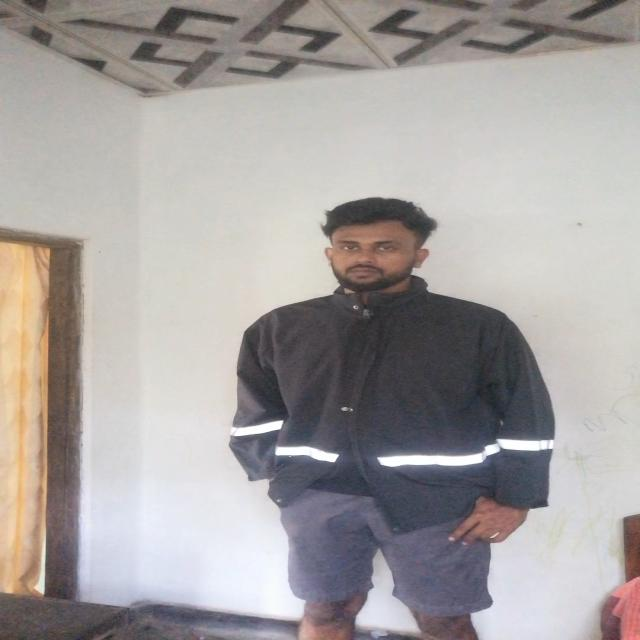Jacket_Wearer: (213, 276, 569, 502)
